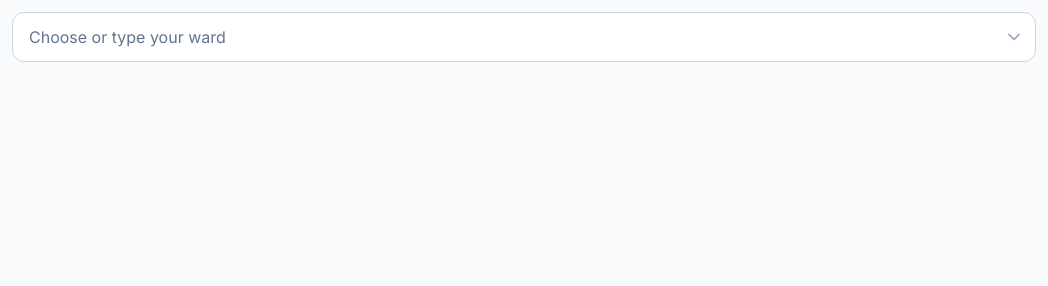
Test: #823 — the list is drawn by this application, not by the browser › THE OPTIONS ARE REAL DOM, NOT A <datalist>
Focus the dropdown at coordinates (524, 37), box [12, 12, 1036, 62]
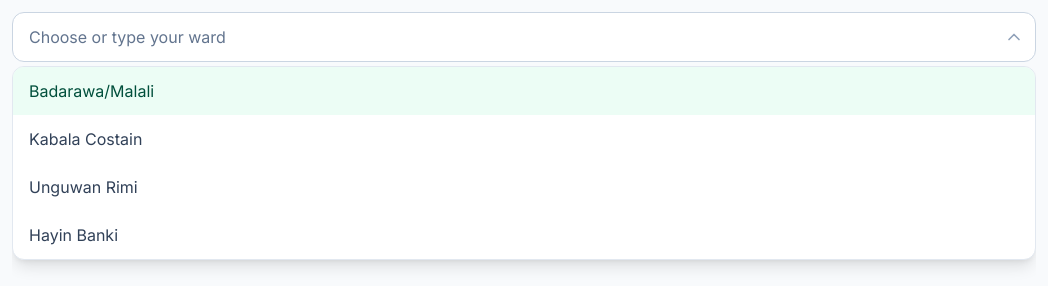
Check: the list is shown
Check: the number of options is 4, box [13, 67, 1035, 115]; [29, 129, 142, 149]; [29, 177, 138, 197]; [29, 225, 118, 245]
